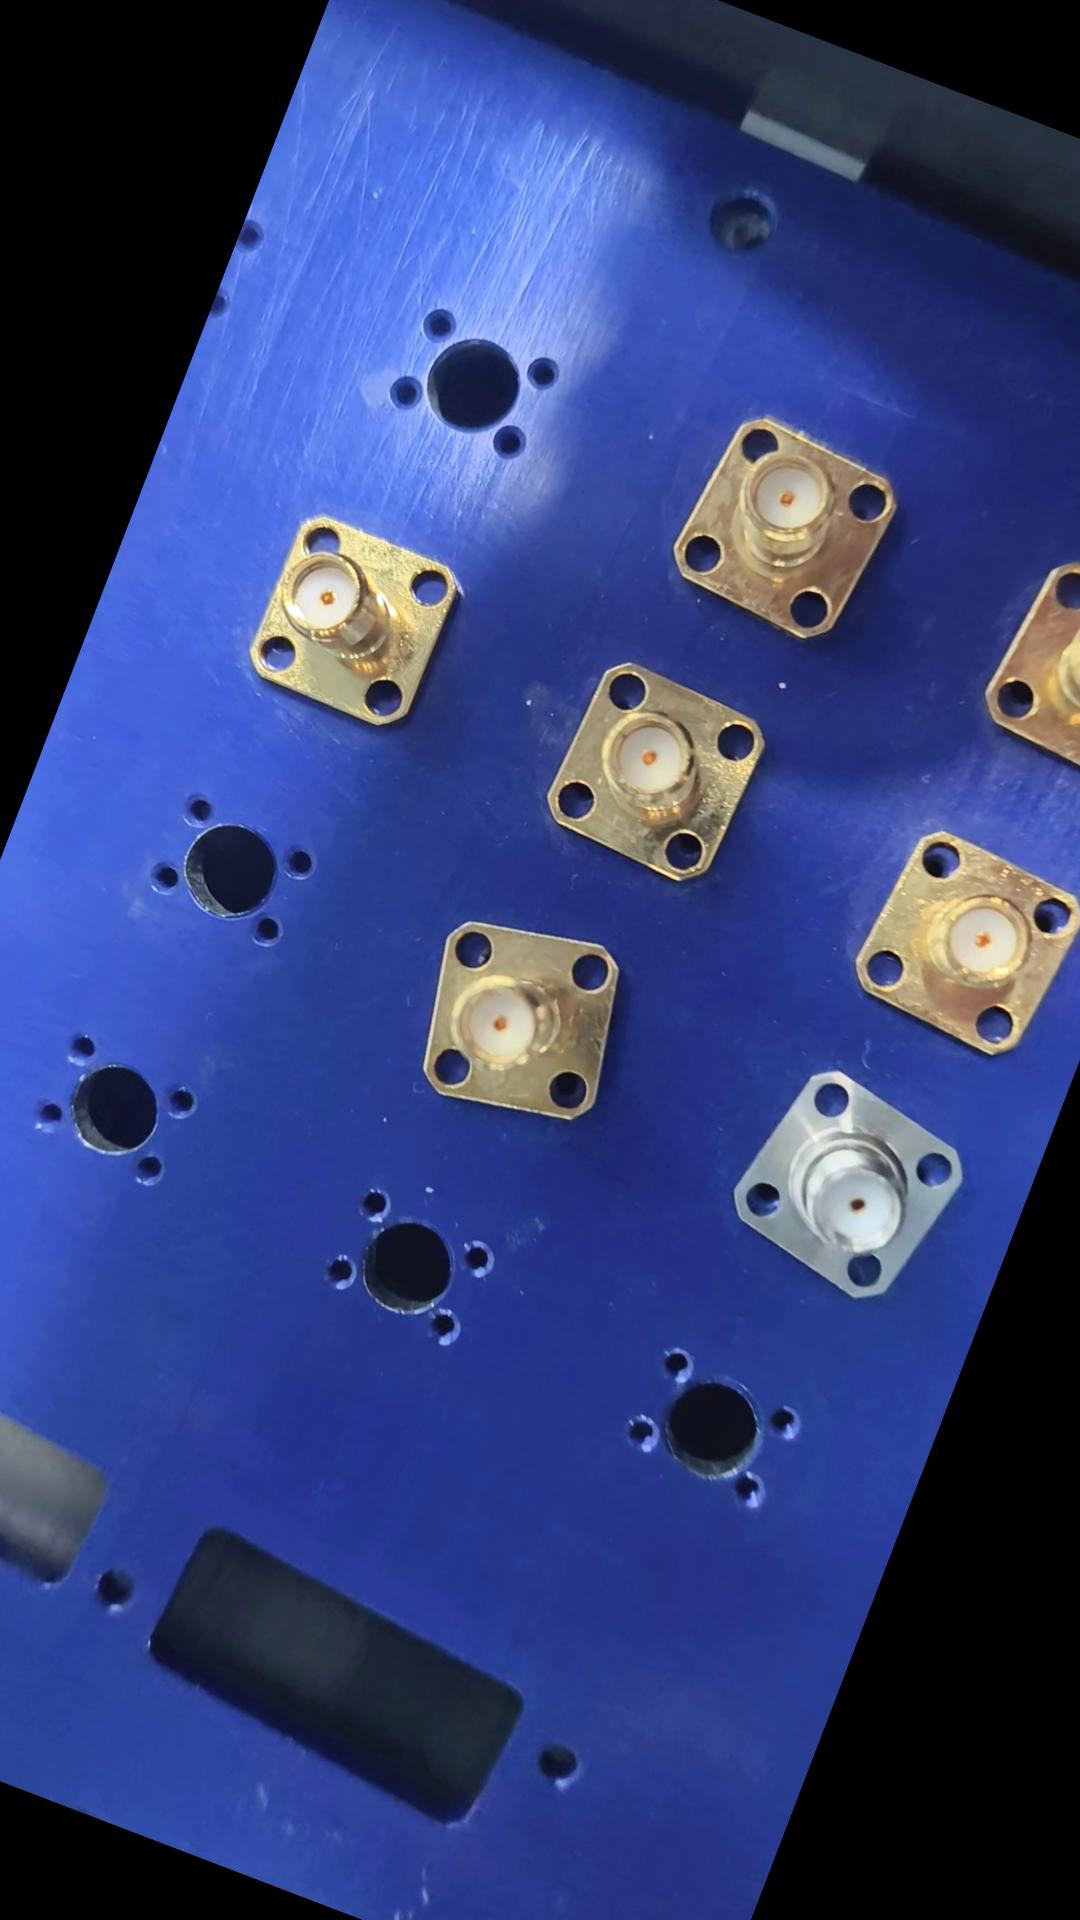SMA: (691, 1036, 981, 1325), (381, 884, 647, 1149), (512, 644, 781, 906), (645, 396, 914, 651), (825, 808, 1079, 1079), (224, 496, 471, 742), (953, 553, 1079, 808)
